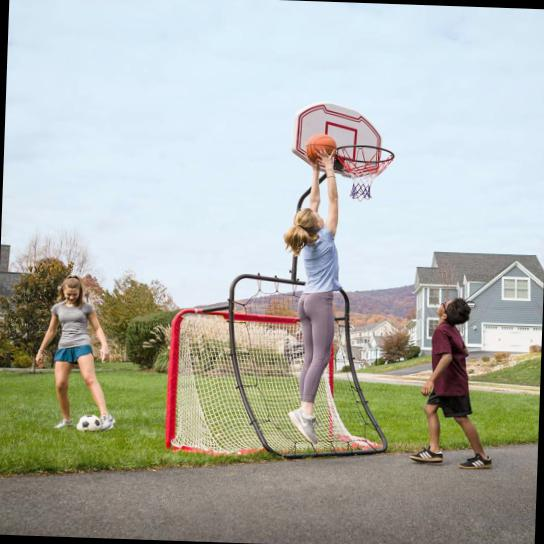basketball-hoop: (331, 142, 396, 202)
